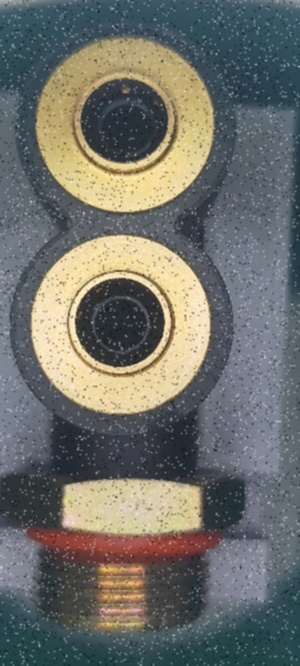bump: (143, 407, 186, 430)
white mark: (110, 466, 124, 481)
